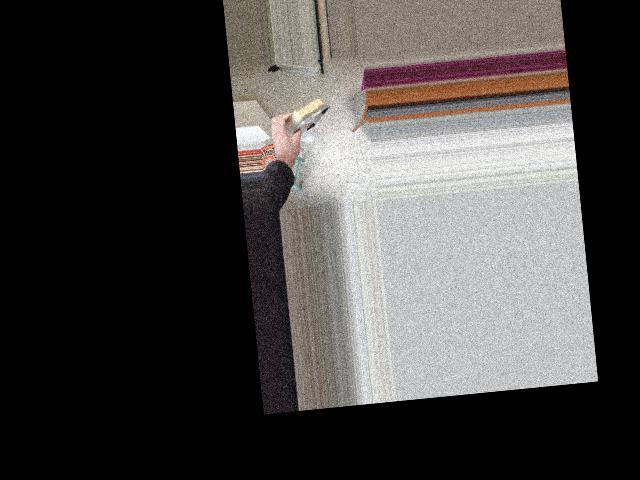cheese: (259, 86, 335, 150)
